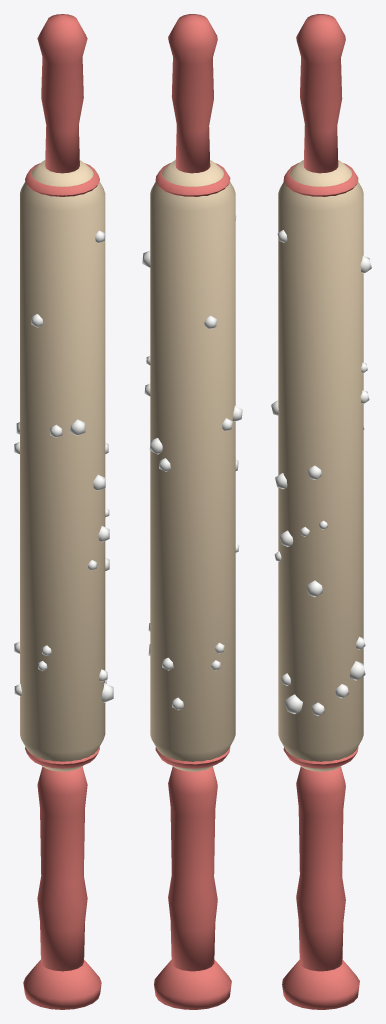
File: BatsWorld4.fbx
3 renders of one model, left to right at view 1: azimuth 90°, elevation 25°; view 2: azimuth 150°, elevation 25°; view 3: azimuth 330°, elevation 25°, orthographic.
Visible parts, largest first — view 1: rolling_pin_bat__Barrel, rolling_pin_bat__Grip, rolling_pin_bat__TipHandle, rolling_pin_bat__Knob, rolling_pin_bat__Flour, rolling_pin_bat__Bands; view 2: rolling_pin_bat__Barrel, rolling_pin_bat__Grip, rolling_pin_bat__TipHandle, rolling_pin_bat__Knob, rolling_pin_bat__Flour, rolling_pin_bat__Bands; view 3: rolling_pin_bat__Barrel, rolling_pin_bat__Grip, rolling_pin_bat__TipHandle, rolling_pin_bat__Knob, rolling_pin_bat__Flour, rolling_pin_bat__Bands.
Boxes of the visible parts, <box> form: rolling_pin_bat__Barrel: <box>20,160,105,771</box>; rolling_pin_bat__Grip: <box>37,766,87,971</box>; rolling_pin_bat__TipHandle: <box>37,14,87,173</box>; rolling_pin_bat__Knob: <box>23,959,101,1009</box>; rolling_pin_bat__Flour: <box>14,230,113,702</box>; rolling_pin_bat__Bands: <box>25,163,99,768</box>; rolling_pin_bat__Barrel: <box>150,160,235,771</box>; rolling_pin_bat__Grip: <box>168,766,217,971</box>; rolling_pin_bat__TipHandle: <box>168,14,217,173</box>; rolling_pin_bat__Knob: <box>154,959,231,1009</box>; rolling_pin_bat__Flour: <box>142,215,242,710</box>; rolling_pin_bat__Bands: <box>155,163,230,768</box>; rolling_pin_bat__Barrel: <box>278,160,363,771</box>; rolling_pin_bat__Grip: <box>296,767,345,971</box>; rolling_pin_bat__TipHandle: <box>296,14,345,173</box>; rolling_pin_bat__Knob: <box>282,959,359,1009</box>; rolling_pin_bat__Flour: <box>271,230,371,715</box>; rolling_pin_bat__Bands: <box>283,163,358,768</box>.
Size of the model in its own units: 39.98 by 430 by 39.63.
